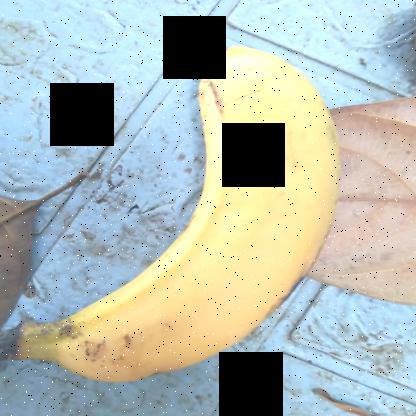freshripe: (1, 40, 348, 382)
